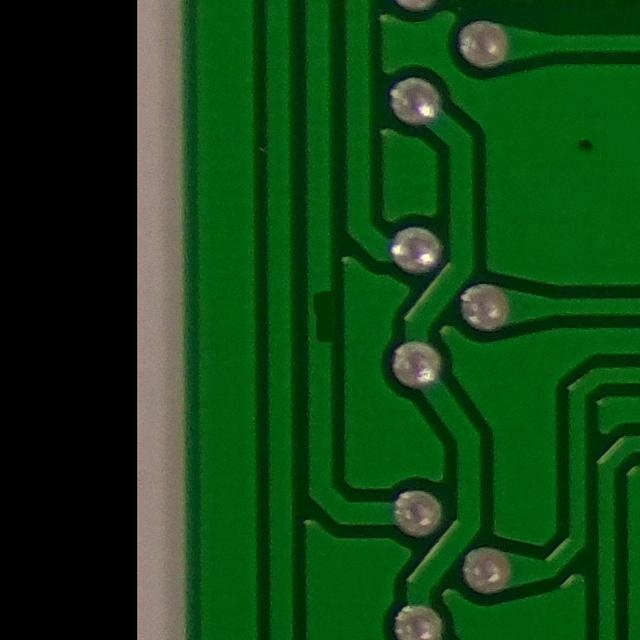mouse_bite: (299, 275, 340, 365)
